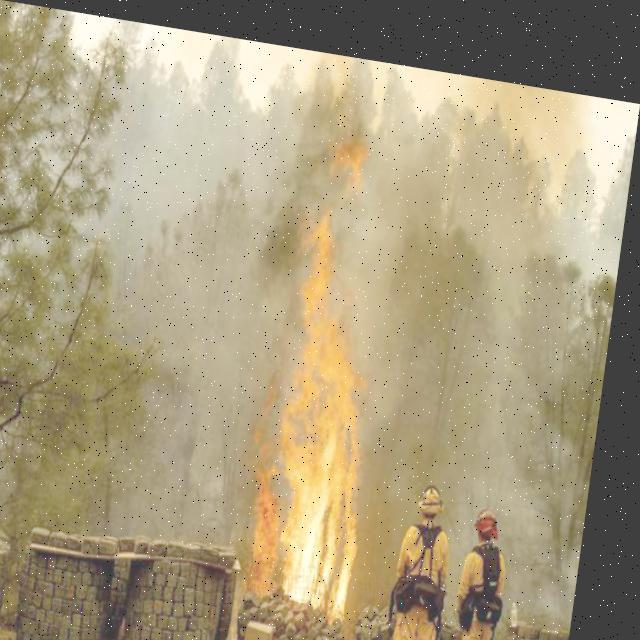Fire: (238, 177, 412, 616)
